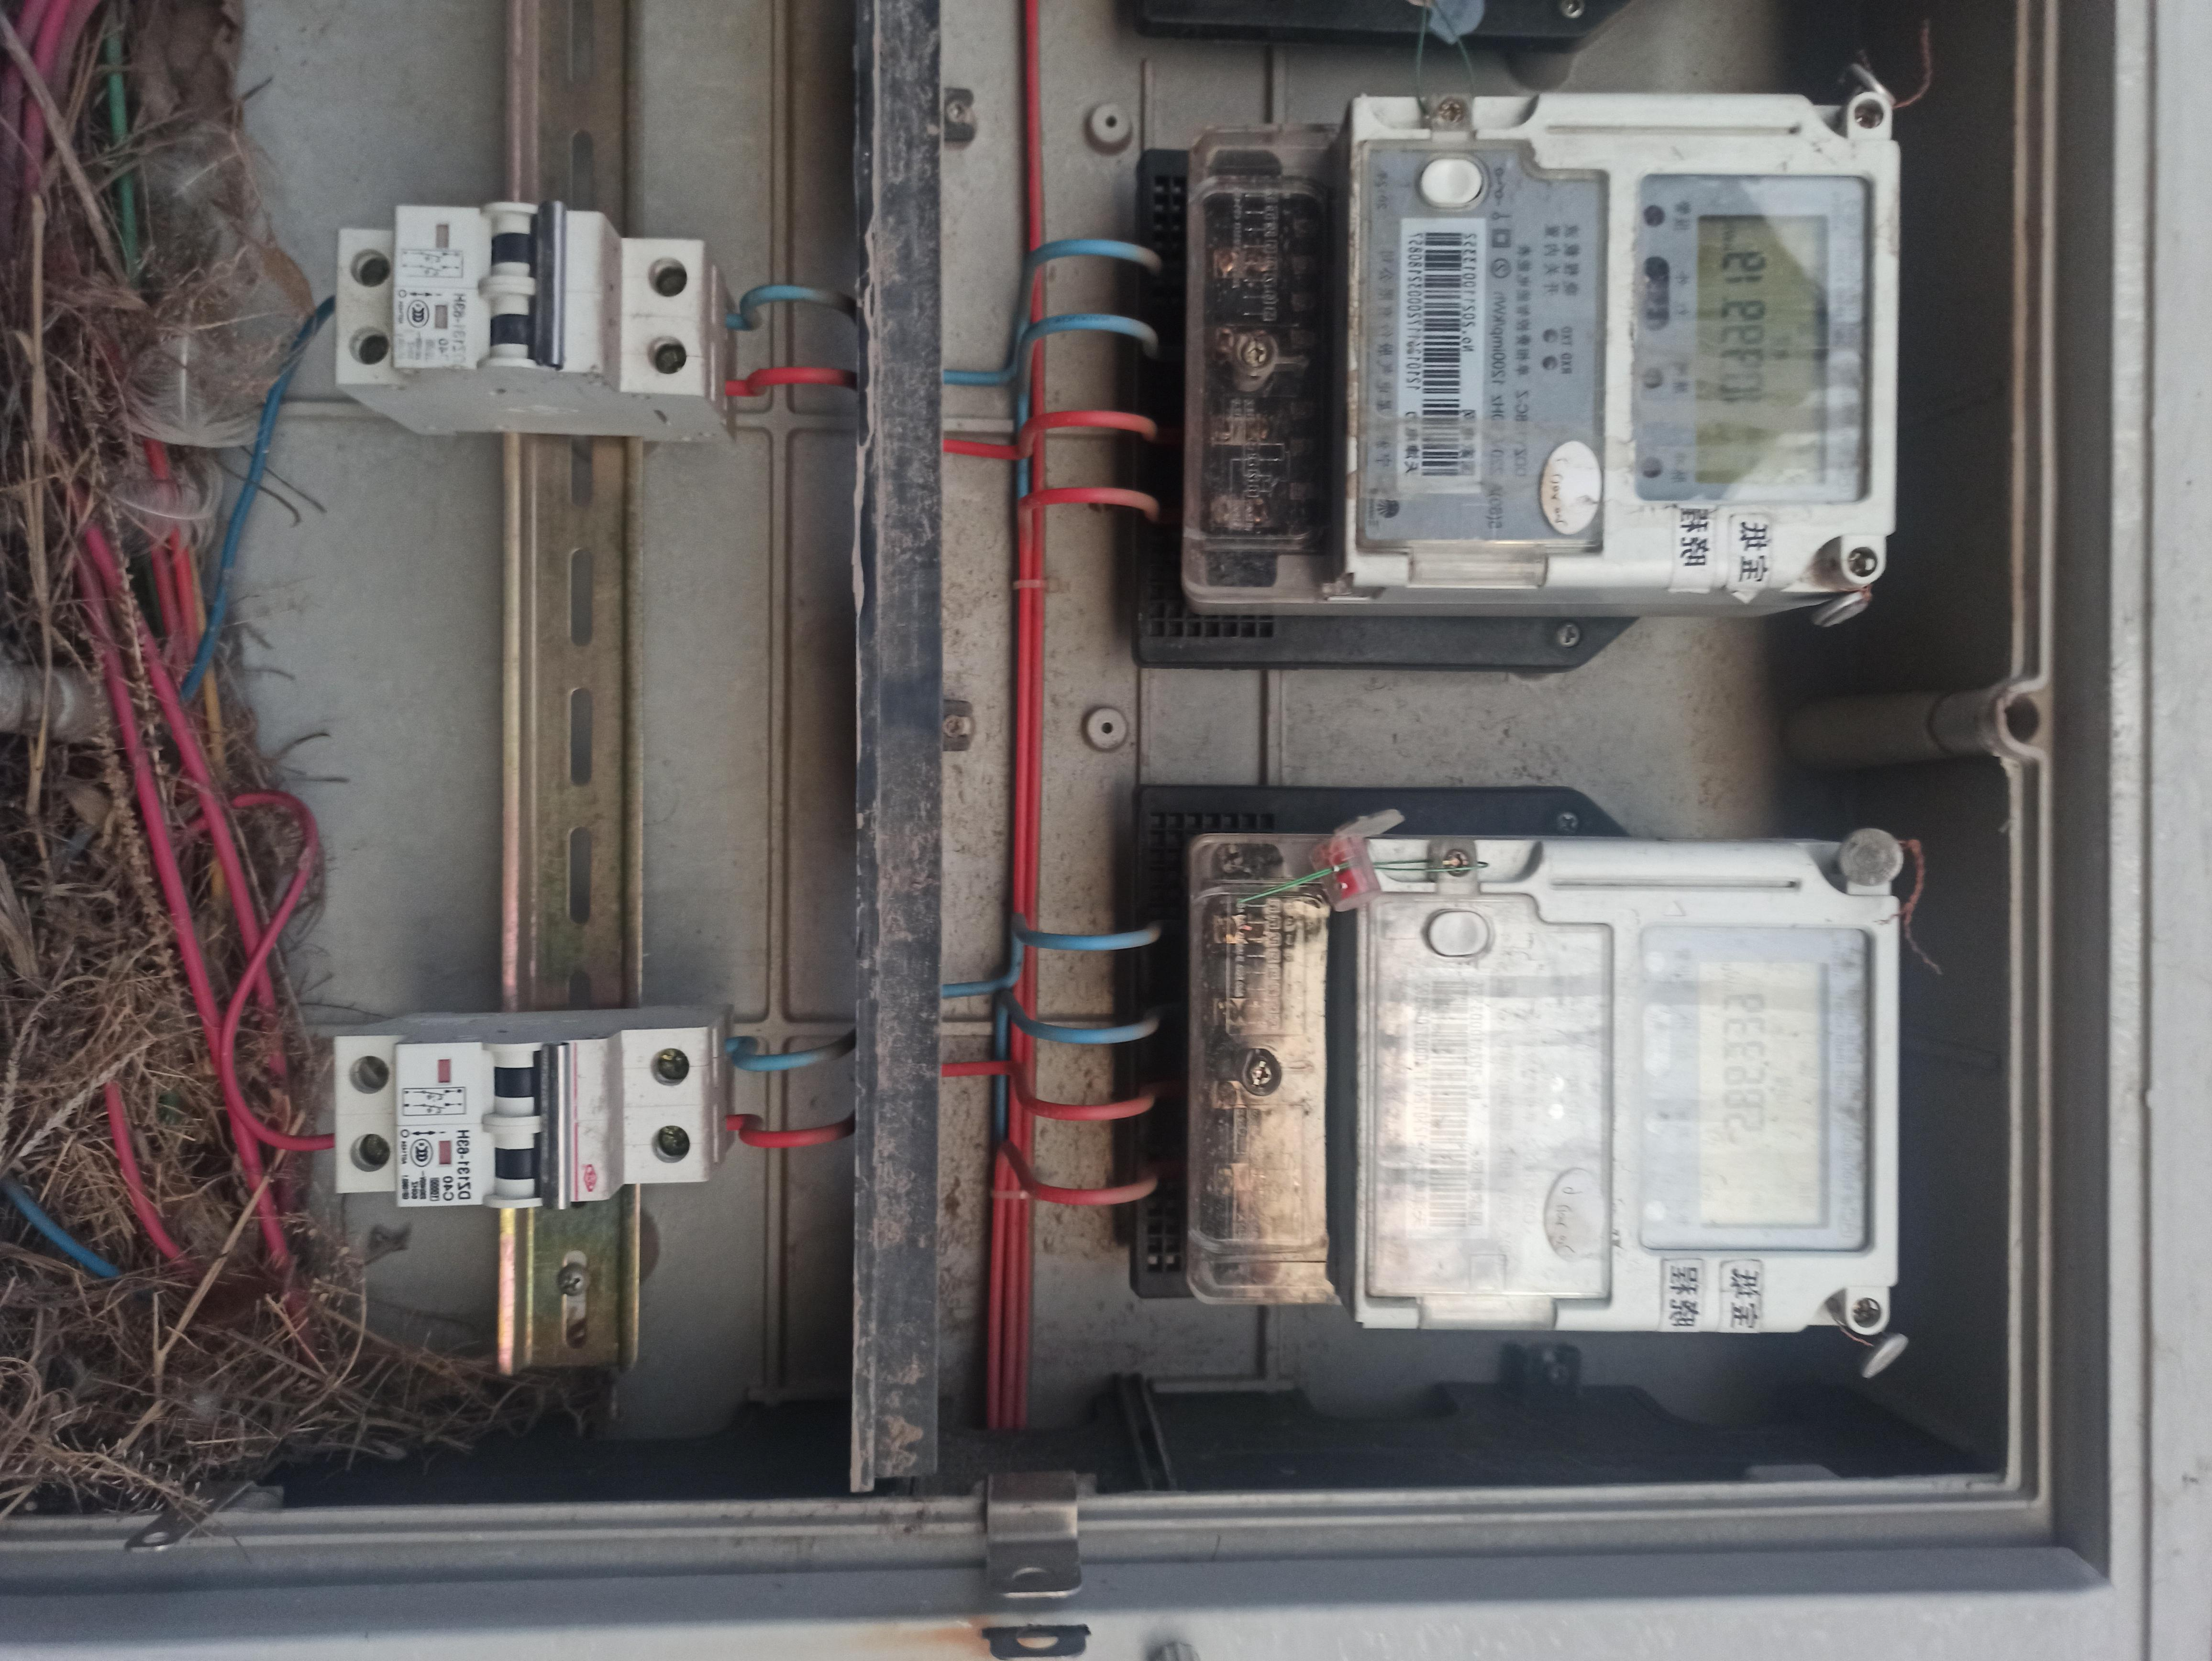digital: (1361, 839, 1898, 1336), (1347, 96, 1888, 590)
